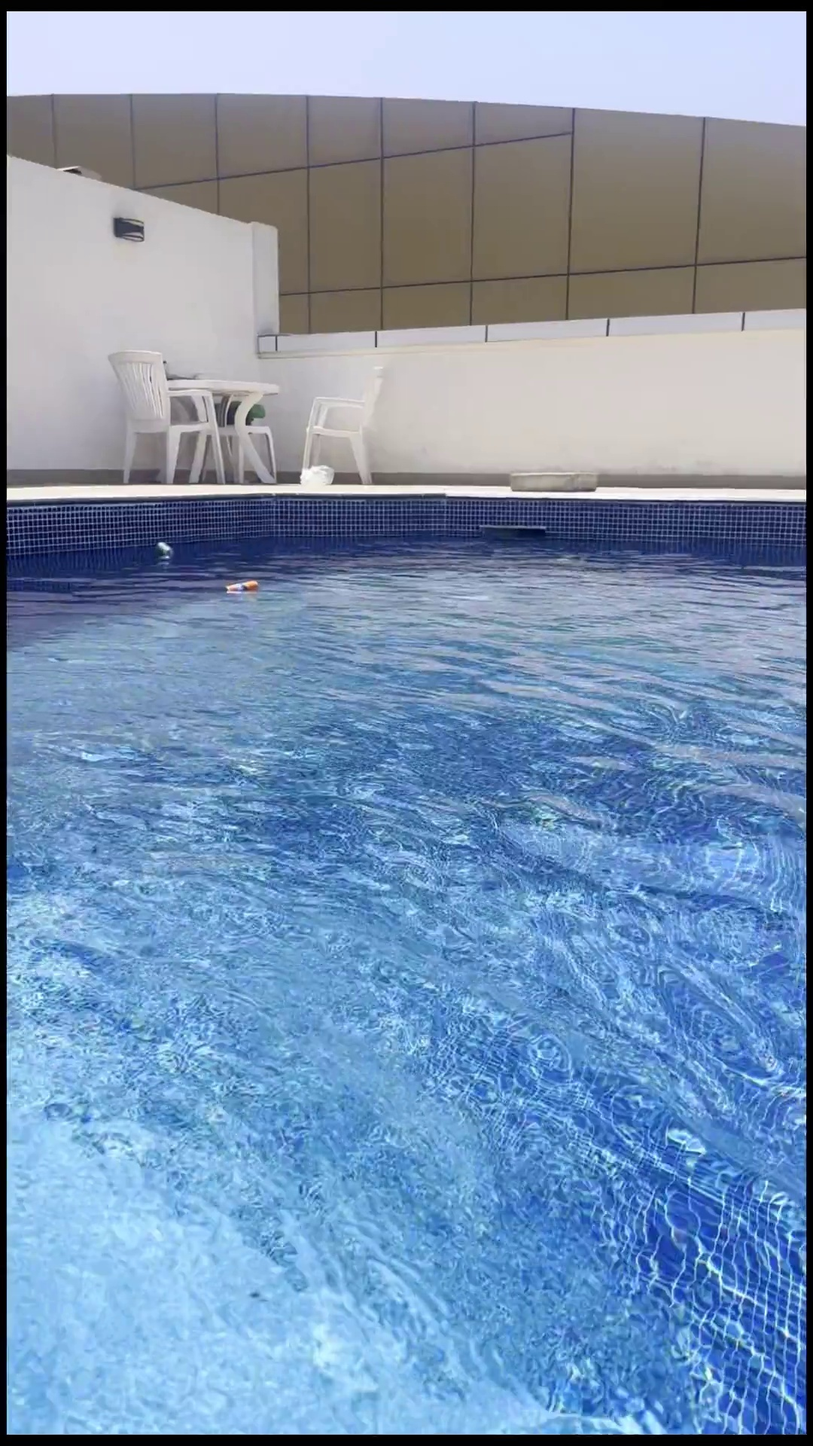debris: (221, 567, 257, 612), (148, 534, 174, 574)
